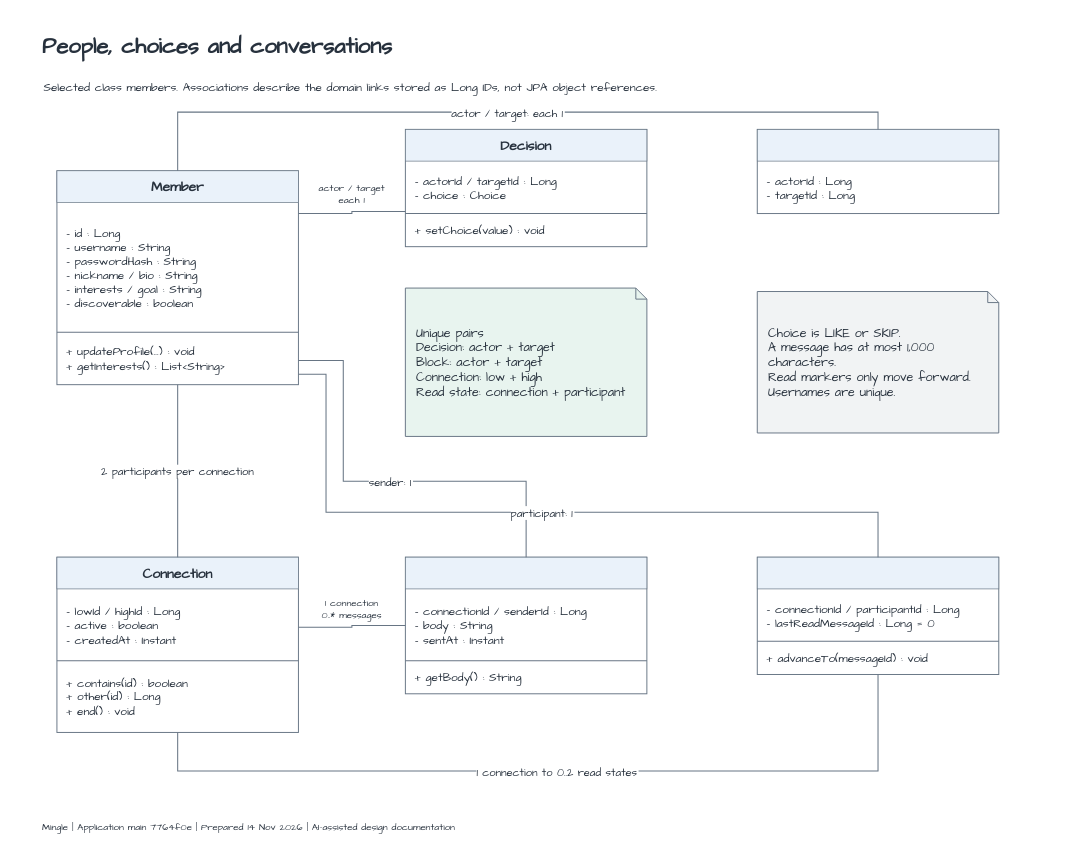
Some shapes in this 1065 by 858 pixel diagram are drawn without their labels. The shapes that lost their labels are listed below. From the top down, each one's centre as x and y in pixels, then its label:
At [878,145]: "Block".
At [526,572]: "Message".
At [878,572]: "ConversationReadState".
